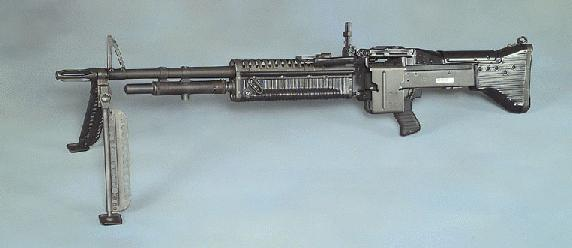rifle: (26, 32, 547, 234)
